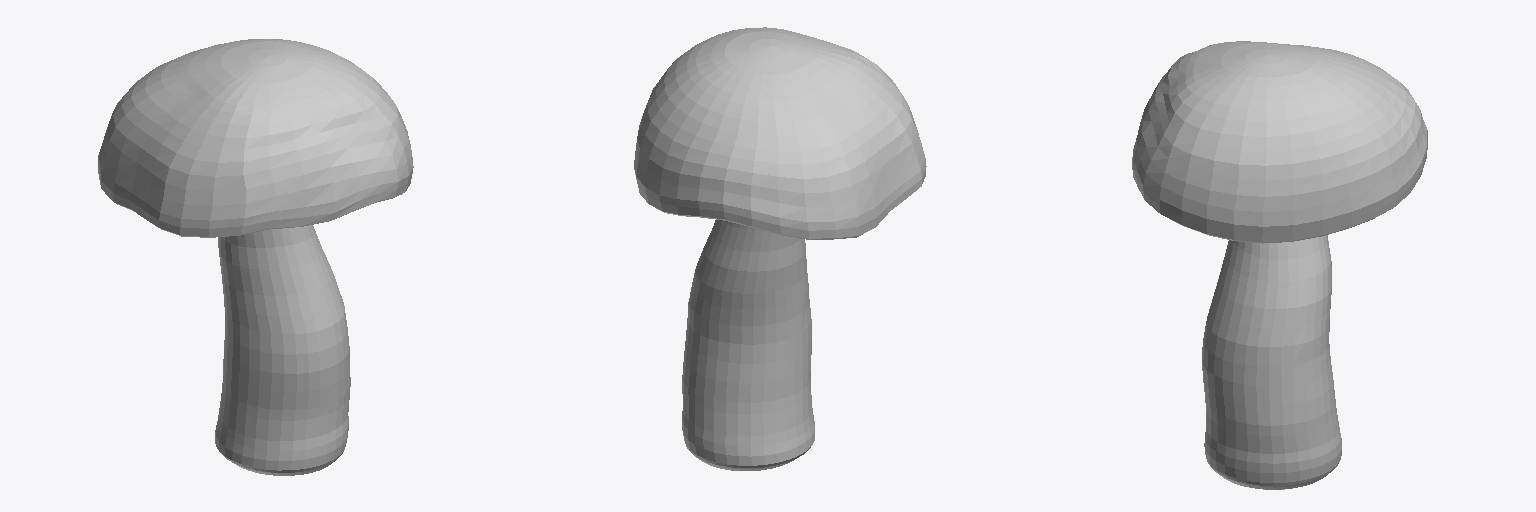
The model's file is belyj-grib.obj.
3 renders of one model, left to right at view 1: azimuth 30°, elevation 25°; view 2: azimuth 150°, elevation 25°; view 3: azimuth 270°, elevation 25°, orthographic.
Parts seen in each view (by area): view 1: Cylinder_Cylinder.001; view 2: Cylinder_Cylinder.001; view 3: Cylinder_Cylinder.001.
Part boxes in pixels (x1,y1,x2,y2): Cylinder_Cylinder.001: (98,39,413,475); Cylinder_Cylinder.001: (634,27,926,470); Cylinder_Cylinder.001: (1132,41,1427,489).
Size of the model in its own units: 2.03 by 3.14 by 2.06.